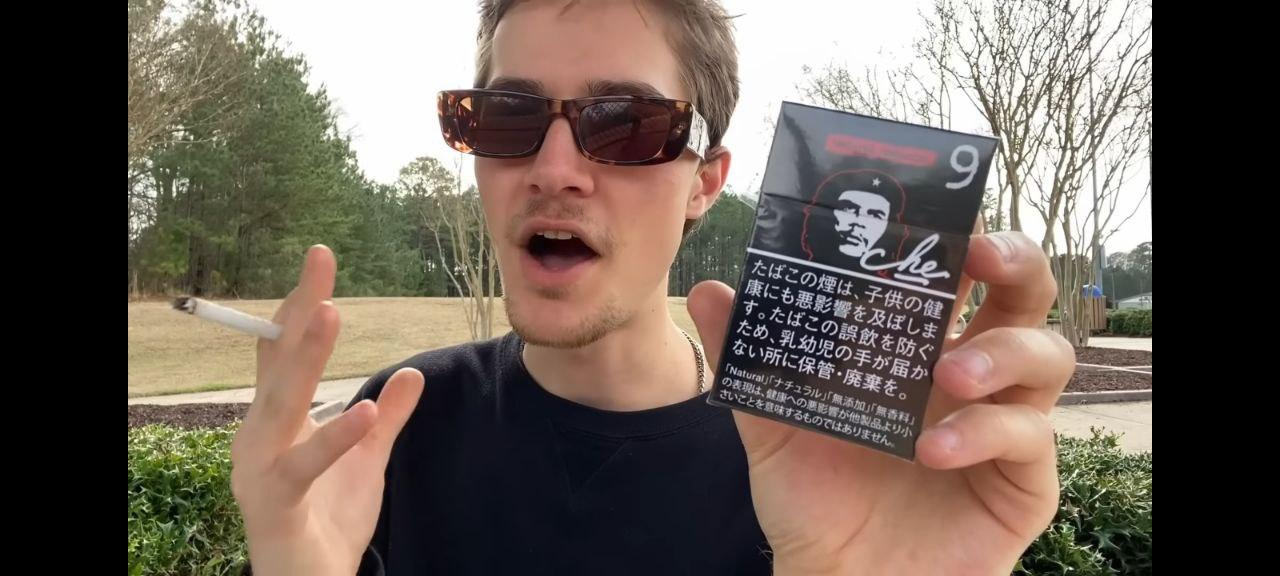cigarette: (172, 298, 282, 340)
